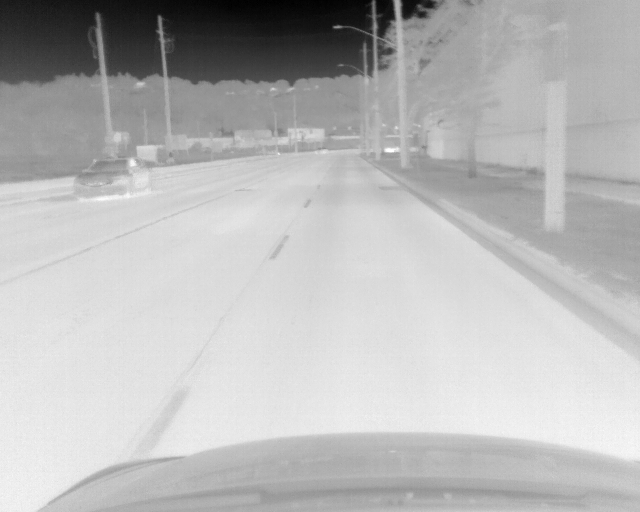car: (73, 156, 154, 201)
